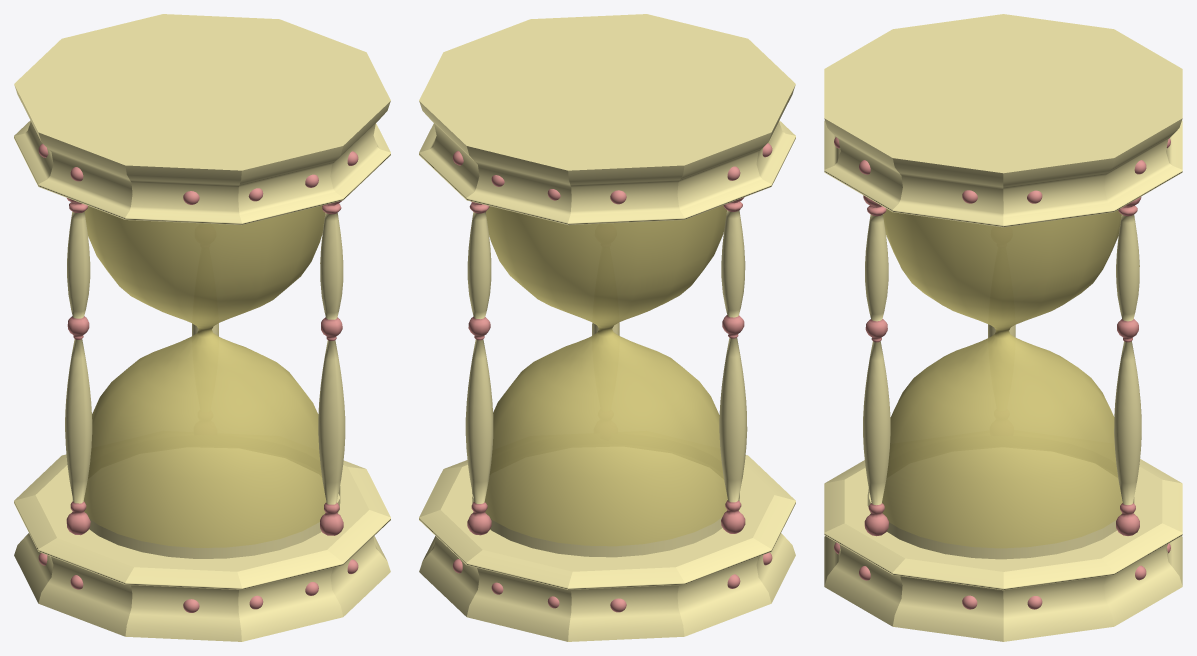
Rendered from shalou.fbx.
The picture shows the model from 3 angles, left to right: view 1: azimuth 30°, elevation 25°; view 2: azimuth 150°, elevation 25°; view 3: azimuth 270°, elevation 25°; orthographic projection.
Visible parts, largest first — view 1: pCylinder2, nurbsToPoly21, pCylinder1, nurbsToPoly20, nurbsToPoly12, nurbsToPoly18; view 2: pCylinder2, nurbsToPoly21, pCylinder1, nurbsToPoly19, nurbsToPoly20, nurbsToPoly18; view 3: pCylinder2, nurbsToPoly21, pCylinder1, nurbsToPoly12, nurbsToPoly19, nurbsToPoly18.
Part boxes in pixels (x1,y1,x2,y2): pCylinder2: (14,14,390,225); nurbsToPoly21: (83,205,326,547); pCylinder1: (14,448,390,641); nurbsToPoly20: (65,198,92,535); nurbsToPoly12: (318,201,345,535); nurbsToPoly18: (72,486,340,558); pCylinder2: (419,14,795,225); nurbsToPoly21: (484,205,727,546); pCylinder1: (419,447,795,641); nurbsToPoly19: (465,201,493,535); nurbsToPoly20: (719,197,747,533); nurbsToPoly18: (472,490,739,557); pCylinder2: (824,14,1182,227); nurbsToPoly21: (882,209,1122,548); pCylinder1: (824,448,1182,641); nurbsToPoly12: (863,195,890,536); nurbsToPoly19: (1114,197,1141,535); nurbsToPoly18: (867,488,1134,559).
Size of the model in its own units: 4.56 by 6.26 by 4.34.
